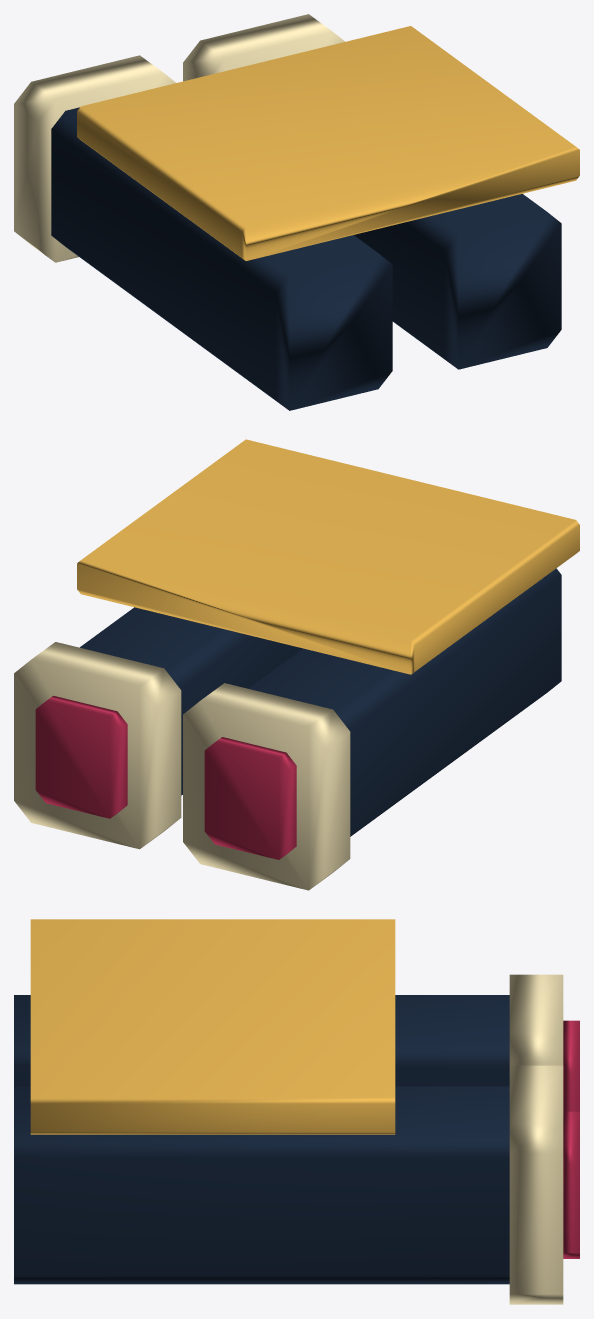
The model's file is weapon_supra-backfire.glb.
3 views of the same model, one above another, from view 1: azimuth 30°, elevation 25°; view 2: azimuth 150°, elevation 25°; view 3: azimuth 270°, elevation 25° (orthographic). The views are drawn at different scales.
Visible parts, largest first — view 1: HeatShield, Exhaust (×2), ChromeLip (×2); view 2: HeatShield, Exhaust (×2), ChromeLip (×2), FlameBore (×2); view 3: Exhaust (×2), HeatShield, ChromeLip (×2), FlameBore (×2).
Part boxes in pixels (box(x1,y1,x2,y2)): HeatShield: box(77, 26, 579, 260); Exhaust (×2): box(51, 107, 561, 410); ChromeLip (×2): box(14, 14, 345, 262); HeatShield: box(77, 439, 579, 674); Exhaust (×2): box(80, 568, 561, 836); ChromeLip (×2): box(14, 642, 350, 890); FlameBore (×2): box(35, 695, 296, 859); Exhaust (×2): box(14, 995, 509, 1284); HeatShield: box(30, 919, 395, 1134); ChromeLip (×2): box(509, 974, 563, 1304); FlameBore (×2): box(563, 1020, 579, 1258).
Bounding box in the file's own units: 0.52 × 0.295 × 0.6825.
